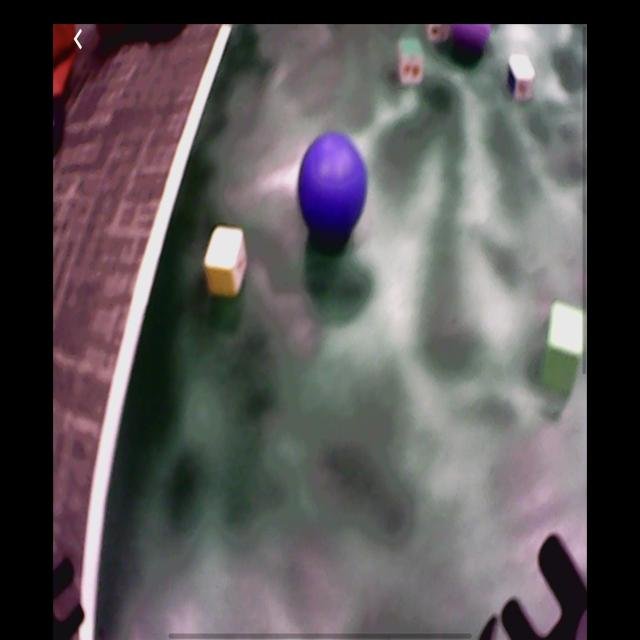ball: (298, 135, 367, 233), (452, 25, 492, 53)
